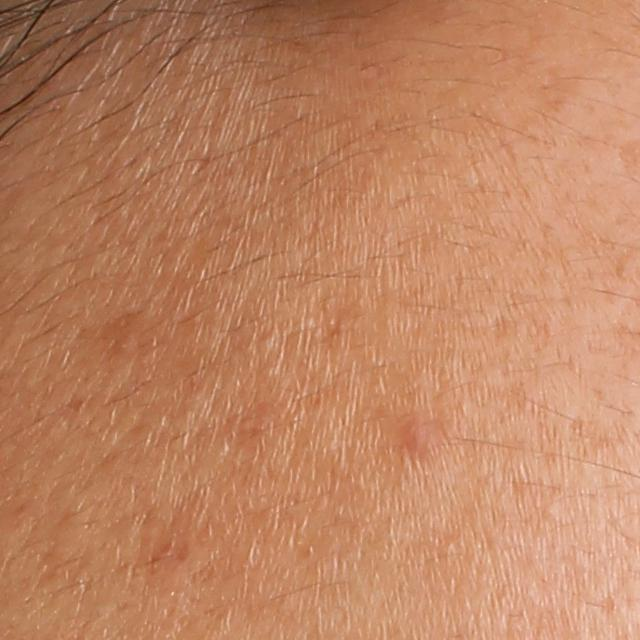comedo: (539, 500, 564, 522)
papule: (402, 416, 434, 453)
